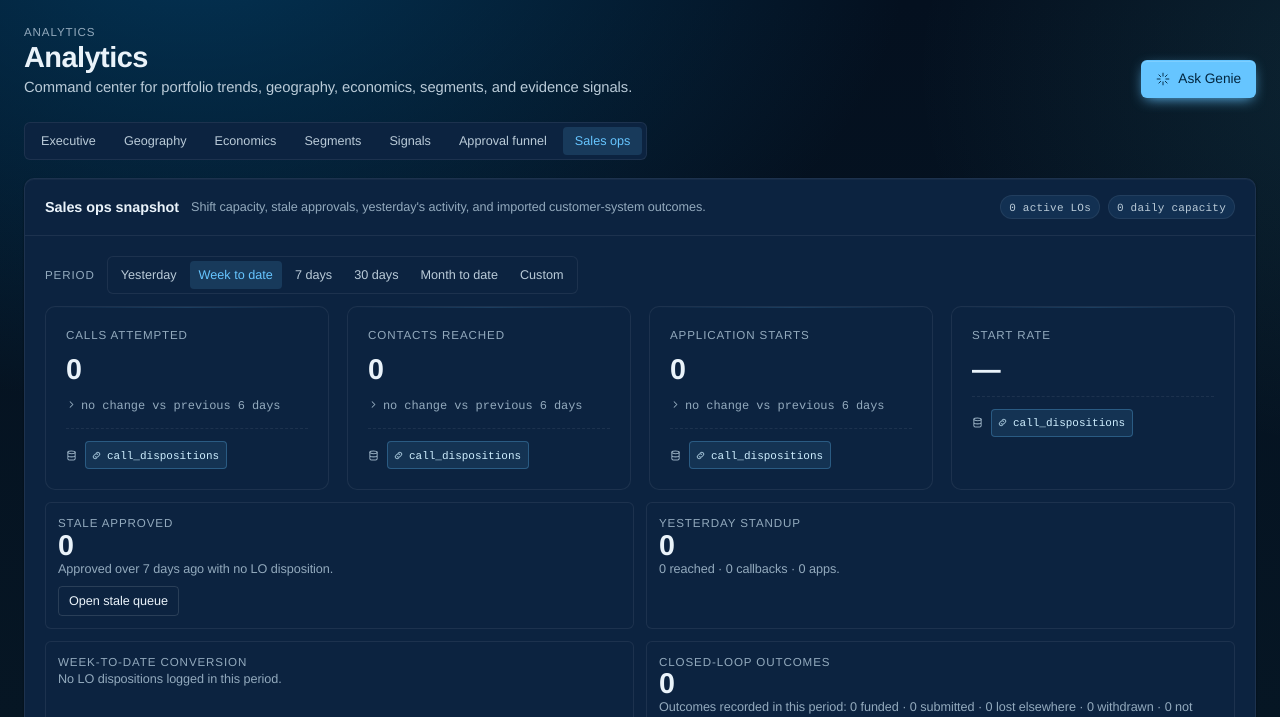
Test: Analytics Sales ops tab › the sales manager view (critic-10) › reads week to date by default and puts a chosen preset in the URL
This screenshot has width=1280, height=717.
Expected: the element showing "Yesterday Week to date 7 days 30 days Month to date Custom" is shown, x1=107 y1=256 x2=578 y2=294
Click the button "7 days".
click(314, 275)  # box x1=286 y1=261 x2=341 y2=289
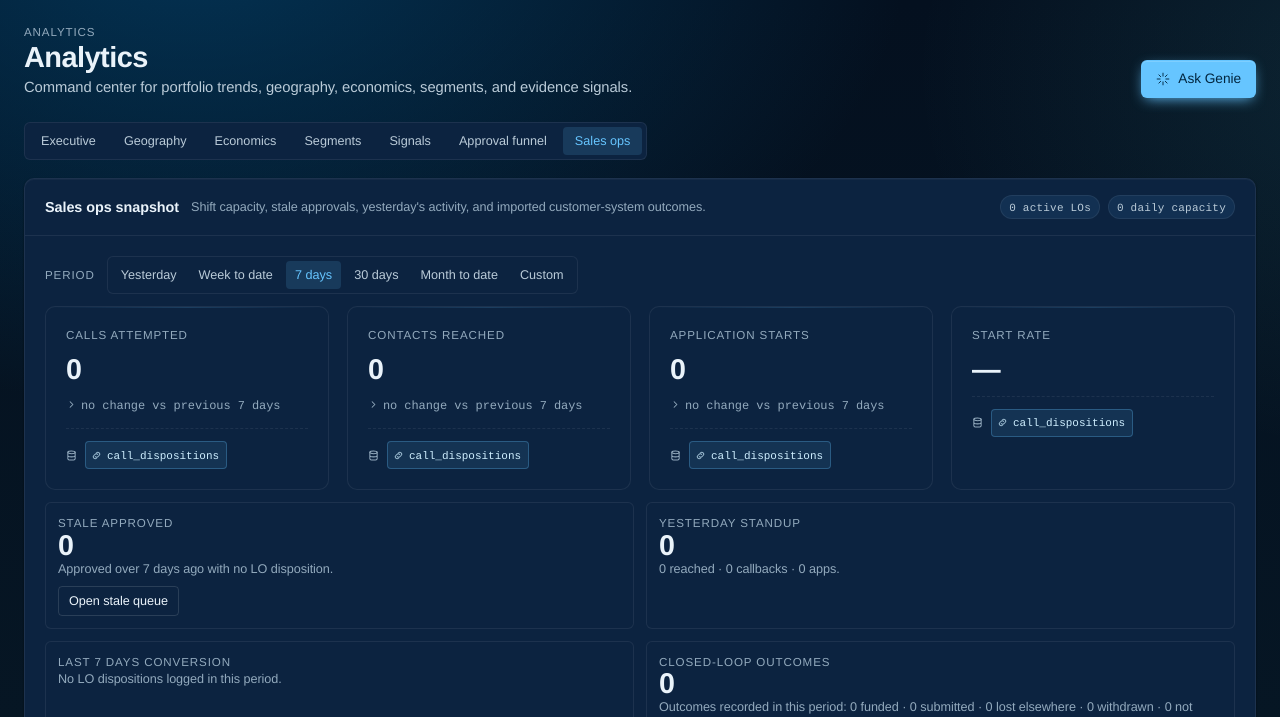
Expected: the text "Last 7 days conversion" is shown, x1=58 y1=655 x2=231 y2=669
